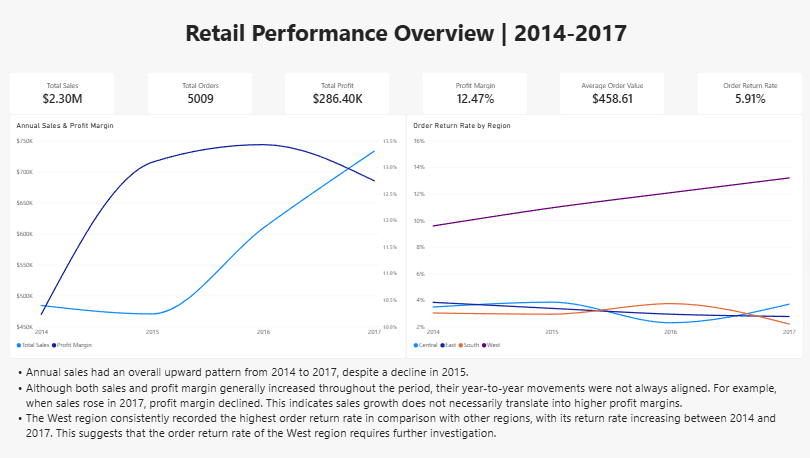

Layout of this report page (visuals, bound fields, positions):
{"tool":"powerbi","page":{"name":"Executive Overview","canvas":[1920,1080],"ordinal":0},"visuals":[{"type":"cardVisual","fields":{"Data":["Fact_OrderLines_Clean.Total Sales"]},"box":[23.3,170,250,100],"z":0},{"type":"cardVisual","fields":{"Data":["Fact_OrderLines_Clean.Total Orders"]},"box":[348,170,250,100],"z":1000},{"type":"cardVisual","fields":{"Data":["Fact_OrderLines_Clean.Total Profit"]},"box":[672.7,170,250,100],"z":2000},{"type":"cardVisual","fields":{"Data":["Fact_OrderLines_Clean.Profit Margin"]},"box":[997.3,170,250,100],"z":3000},{"type":"cardVisual","fields":{"Data":["Fact_OrderLines_Clean.Average Order Value"]},"box":[1322,170,250,100],"z":4000},{"type":"cardVisual","fields":{"Data":["Fact_OrderLines_Clean.Order Return Rate"]},"box":[1646.7,170,250,100],"z":5000},{"type":"lineChart","title":"Annual Sales & Profit Margin","fields":{"Category":["Dim_Calendar.Year"],"Y":["Fact_OrderLines_Clean.Total Sales"],"Y2":["Fact_OrderLines_Clean.Profit Margin"]},"box":[23.3,270,936.7,576.7],"z":6000},{"type":"lineChart","title":"Order Return Rate by Region","fields":{"Category":["Dim_Calendar.Year"],"Series":["Fact_OrderLines_Clean.Region"],"Y":["Fact_OrderLines_Clean.Order Return Rate"]},"box":[960,270,936.7,576.7],"z":7000},{"type":"textbox","box":[0,36.7,1920,133.3],"z":8000},{"type":"textbox","box":[22.5,857.5,1875,222.5],"z":9000}]}

Visuals, with their boxes in screenshot pixels (x1, y1, x2, y2), scaled from the page's 1920x1080 canvas onto the 810x458 screenshot:
cardVisual - Fact_OrderLines_Clean.Total Sales: <bbox>10, 72, 115, 114</bbox>
cardVisual - Fact_OrderLines_Clean.Total Orders: <bbox>147, 72, 252, 114</bbox>
cardVisual - Fact_OrderLines_Clean.Total Profit: <bbox>284, 72, 389, 114</bbox>
cardVisual - Fact_OrderLines_Clean.Profit Margin: <bbox>421, 72, 526, 114</bbox>
cardVisual - Fact_OrderLines_Clean.Average Order Value: <bbox>558, 72, 663, 114</bbox>
cardVisual - Fact_OrderLines_Clean.Order Return Rate: <bbox>695, 72, 800, 114</bbox>
"Annual Sales & Profit Margin" lineChart: <bbox>10, 114, 405, 359</bbox>
"Order Return Rate by Region" lineChart: <bbox>405, 114, 800, 359</bbox>
textbox: <bbox>0, 16, 809, 72</bbox>
textbox: <bbox>9, 364, 801, 457</bbox>
